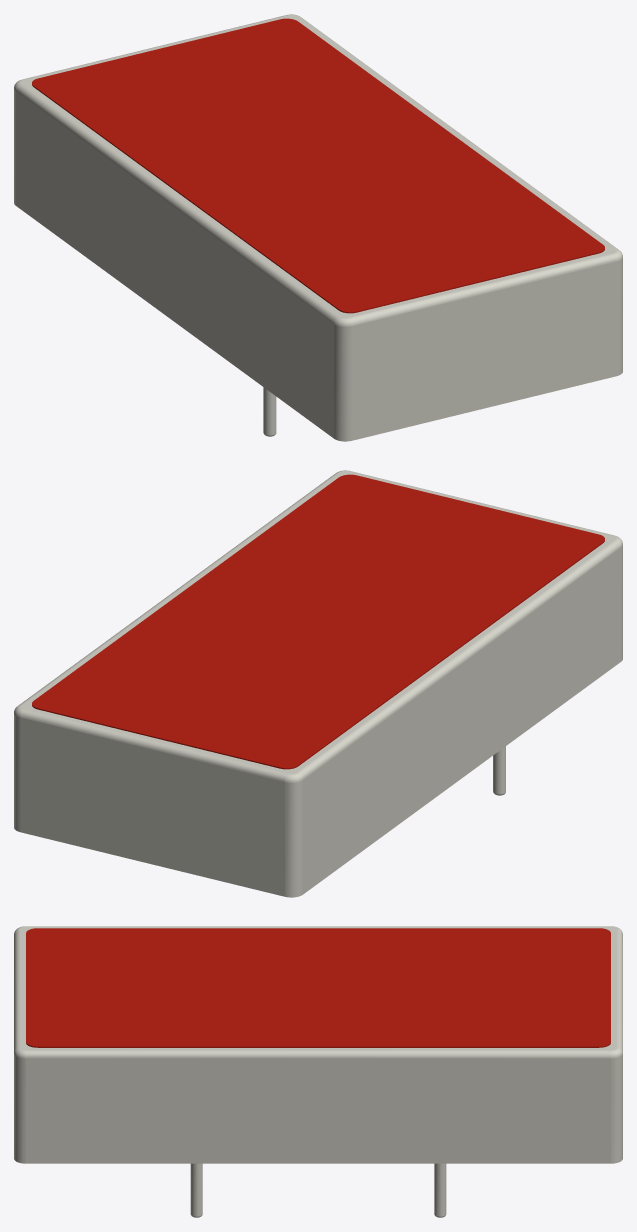
The model's file is kc-converter_dcdc_traco_ten20-xxxx_tht.glb.
3 renders of one model, top to bottom at view 1: azimuth 30°, elevation 25°; view 2: azimuth 150°, elevation 25°; view 3: azimuth 270°, elevation 25°, orthographic. The views are drawn at different scales.
Visible parts, largest first — view 1: 0.4166666666666667_0_0_0, 0.6666666666666666_0.6666666666666666_0.5833333333333334_0.8; view 2: 0.4166666666666667_0_0_0, 0.6666666666666666_0.6666666666666666_0.5833333333333334_0.8; view 3: 0.6666666666666666_0.6666666666666666_0.5833333333333334_0.8, 0.4166666666666667_0_0_0.
Part boxes in pixels (x1=…): 0.4166666666666667_0_0_0: x1=32, y1=18, x2=604, y2=313; 0.6666666666666666_0.6666666666666666_0.5833333333333334_0.8: x1=14, y1=14, x2=622, y2=441; 0.4166666666666667_0_0_0: x1=32, y1=474, x2=604, y2=769; 0.6666666666666666_0.6666666666666666_0.5833333333333334_0.8: x1=14, y1=470, x2=622, y2=897; 0.6666666666666666_0.6666666666666666_0.5833333333333334_0.8: x1=14, y1=926, x2=622, y2=1217; 0.4166666666666667_0_0_0: x1=26, y1=928, x2=610, y2=1047.
Bounding box in the file's own units: 2.54 × 1.63 × 5.08.
